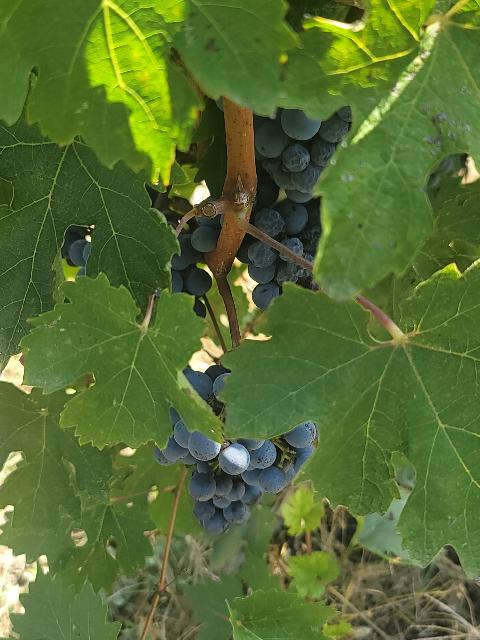grapes: (154, 408, 318, 534)
